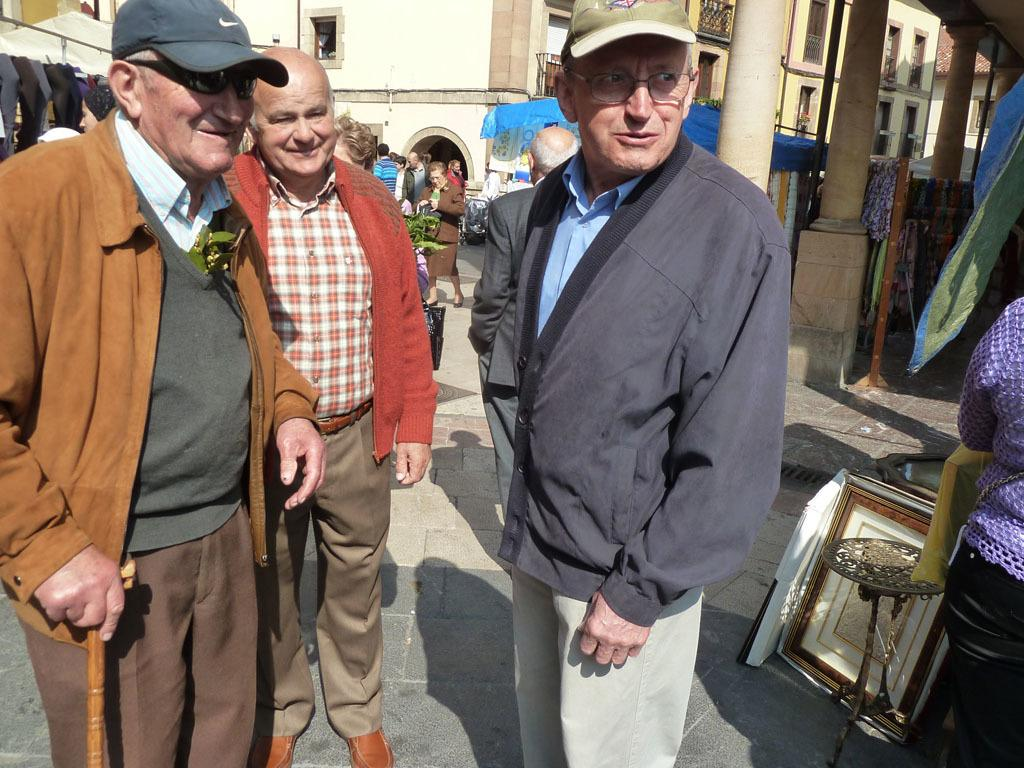Hat: (106, 0, 288, 88), (566, 0, 700, 63)
